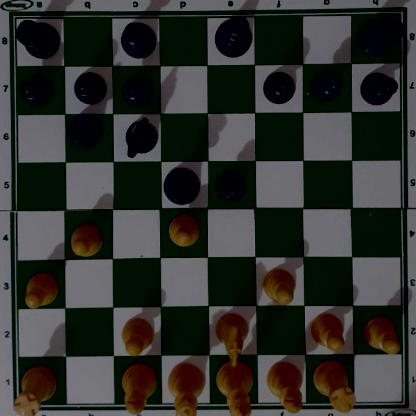black-bishop: (117, 21, 158, 58), (65, 115, 105, 149)
black-king: (213, 15, 252, 59)
black-knight: (124, 115, 156, 154)
black-pawn: (359, 69, 396, 105), (213, 166, 248, 201), (262, 68, 295, 103), (20, 71, 54, 104), (73, 69, 105, 104), (121, 70, 152, 105), (311, 68, 343, 101)
black-queen: (163, 166, 199, 204)
black-rook: (12, 15, 59, 58), (358, 10, 402, 55)
white-bishop: (265, 360, 303, 414), (121, 360, 155, 413)
white-king: (215, 358, 255, 416)
white-knight: (214, 311, 251, 367)
white-pawn: (309, 310, 347, 350), (363, 314, 400, 351), (67, 220, 104, 257), (119, 315, 154, 354), (22, 271, 58, 307), (261, 265, 295, 303), (167, 213, 199, 247)
white-queen: (166, 361, 205, 416)
white-rook: (312, 363, 357, 414), (15, 361, 55, 416)
